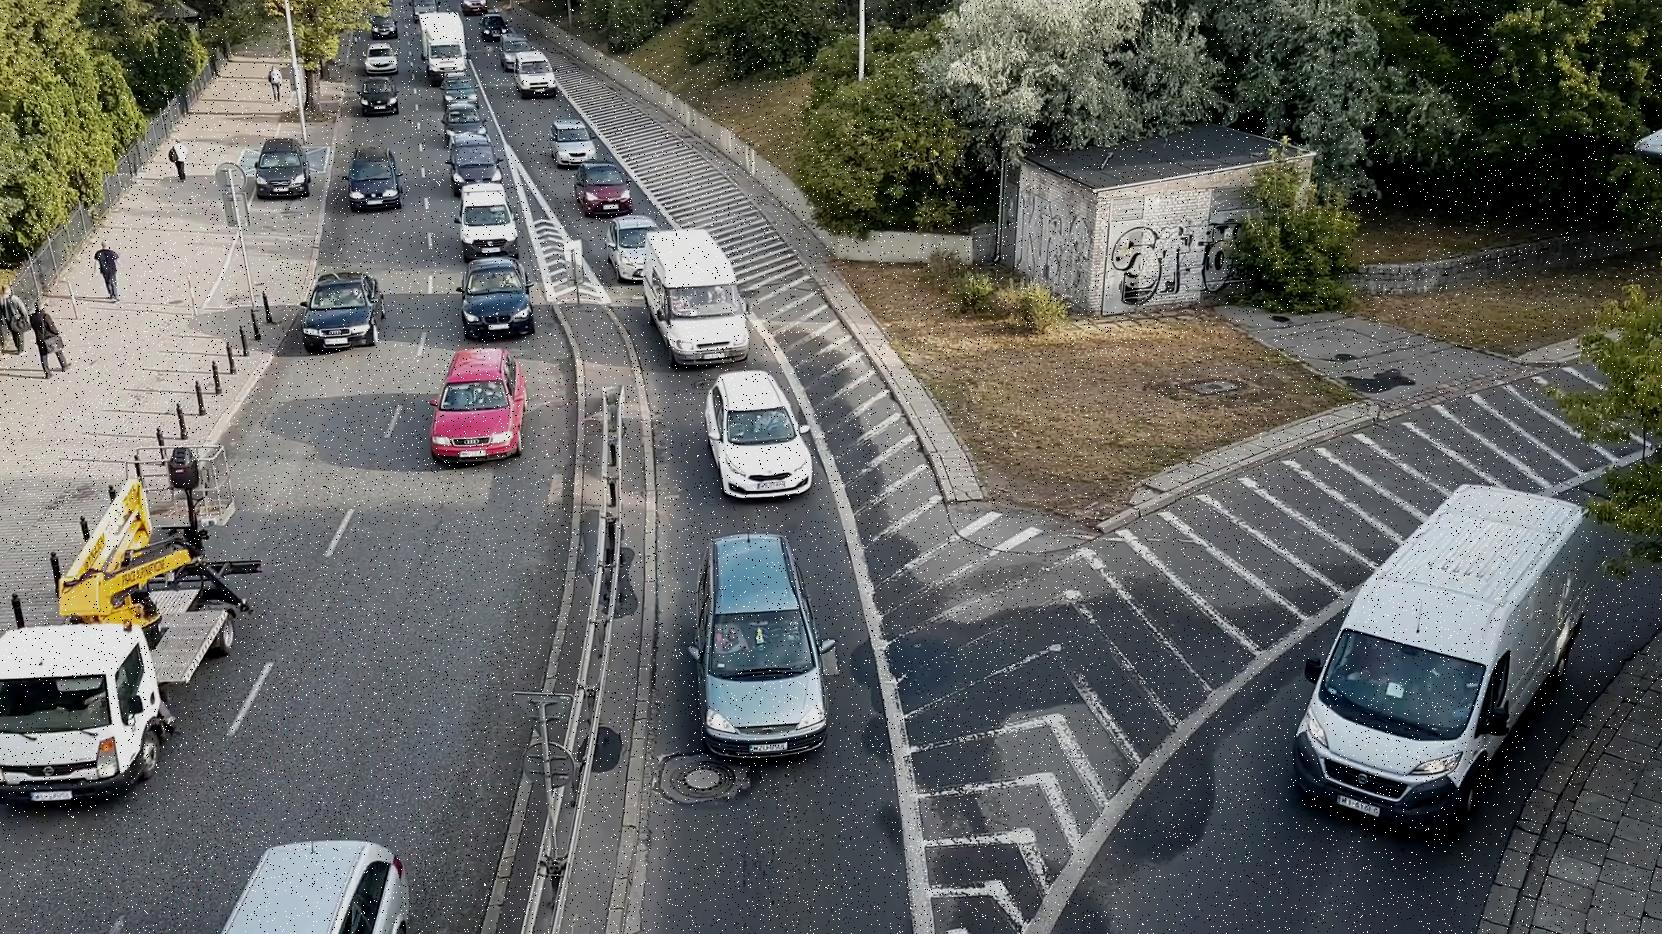car: (1283, 490, 1616, 836), (692, 534, 837, 766), (145, 830, 432, 934), (640, 219, 759, 368), (701, 353, 807, 505), (433, 344, 535, 464), (301, 260, 390, 358), (457, 257, 537, 334), (453, 175, 516, 260), (253, 131, 316, 203), (437, 127, 503, 194), (563, 157, 637, 214), (342, 142, 400, 210), (507, 45, 557, 101), (437, 66, 481, 114), (548, 114, 592, 160), (353, 73, 403, 112)
truck: (0, 426, 268, 821), (413, 10, 472, 64)
